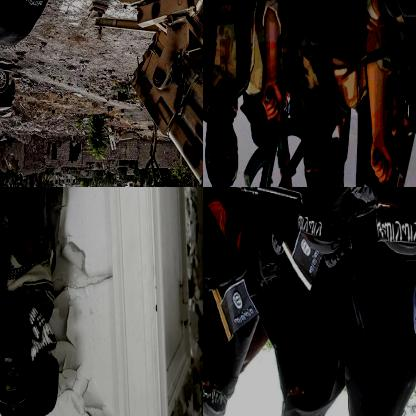rifle: (0, 187, 60, 328), (239, 96, 285, 186), (273, 110, 306, 186), (203, 187, 308, 202)
